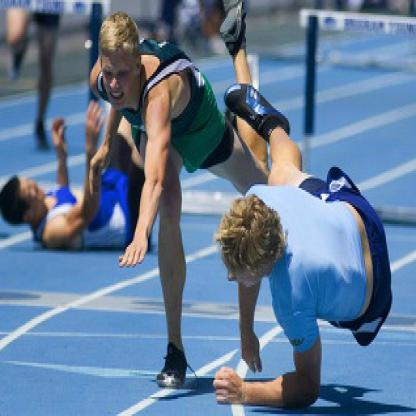Fall_Down: (214, 84, 396, 412)
